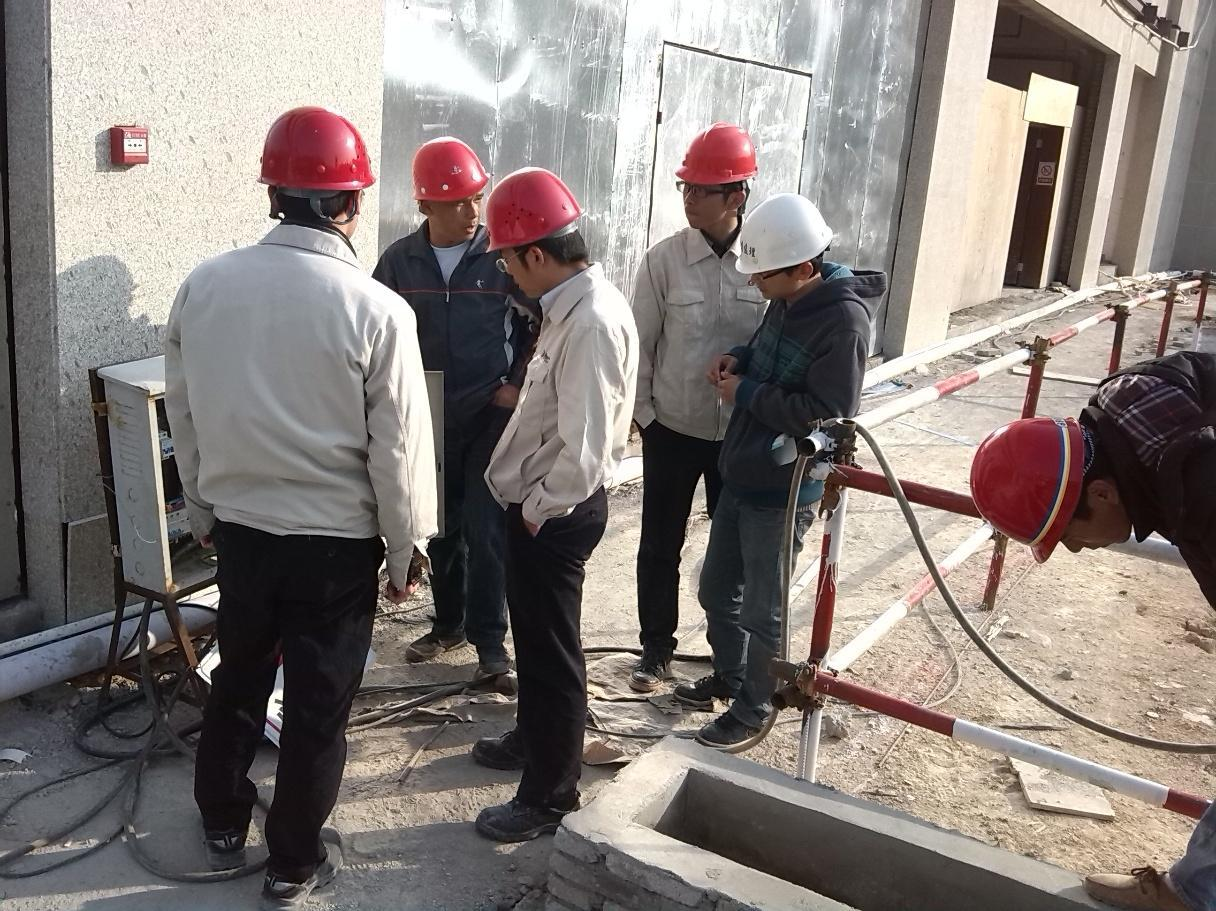helmet: (976, 407, 1091, 543), (676, 110, 759, 208), (273, 109, 367, 193), (743, 198, 822, 279), (482, 180, 573, 238), (417, 138, 480, 197)
no-gloves: (712, 378, 746, 405), (502, 375, 525, 413), (712, 349, 734, 375)
no-shoes: (1096, 856, 1201, 911), (403, 619, 478, 666), (625, 640, 677, 696), (468, 662, 513, 695)
no-vest: (208, 260, 380, 541), (510, 298, 638, 532), (1098, 365, 1216, 603), (636, 235, 761, 455), (410, 233, 527, 465), (731, 298, 854, 479)
person: (168, 81, 394, 906), (986, 287, 1216, 911), (460, 172, 620, 809), (716, 210, 851, 766), (642, 110, 769, 701), (401, 139, 514, 693)
shoes: (480, 792, 590, 846), (466, 725, 573, 778), (250, 849, 344, 905), (705, 692, 785, 753), (201, 807, 254, 860), (689, 663, 748, 705)
